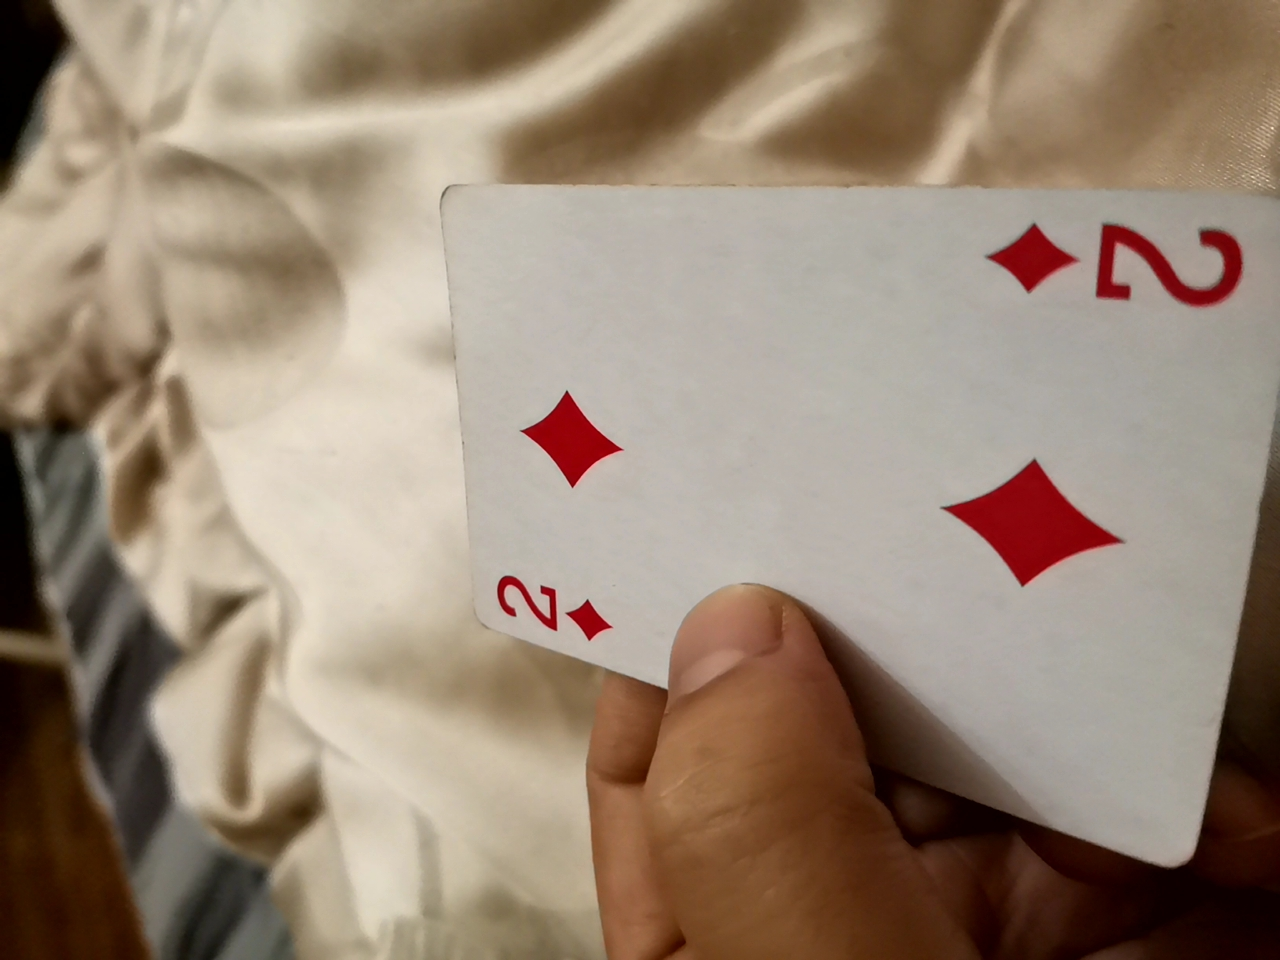fk 2: (394, 166, 1260, 852)
